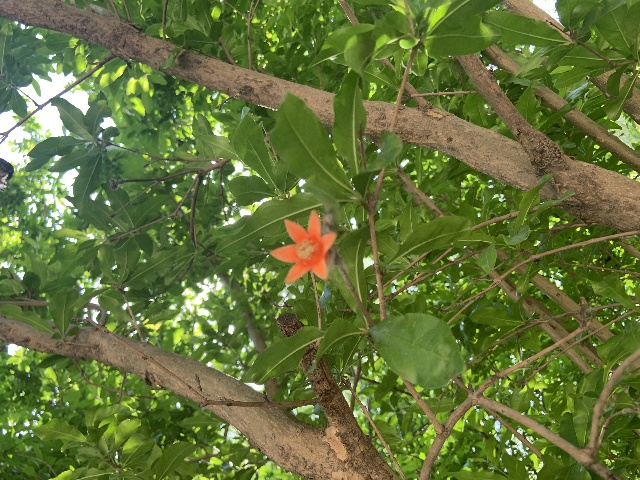flower: (270, 210, 336, 283)
